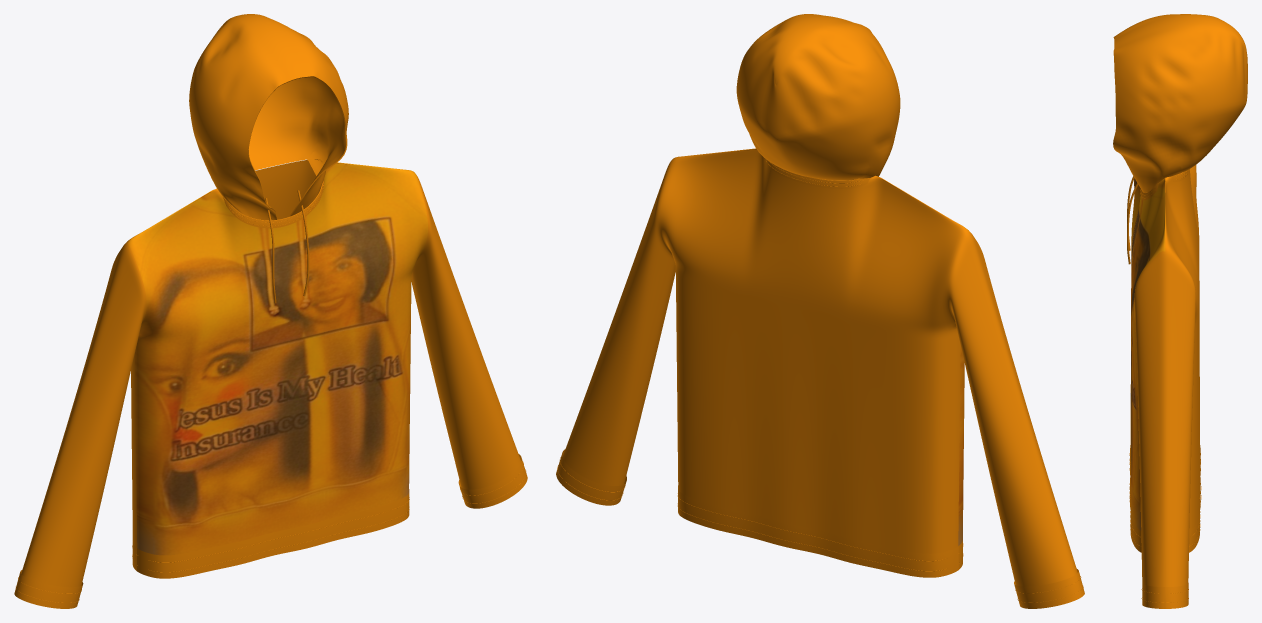
The model's file is jesus-health-insurance-hoodie-tailored-v6.glb.
The picture shows the model from 3 angles, left to right: view 1: azimuth 30°, elevation 25°; view 2: azimuth 150°, elevation 25°; view 3: azimuth 270°, elevation 25°; orthographic projection. The views are drawn at different scales.
Parts seen in each view (by area): view 1: front cotton, Sleeve cotton, Open hood panels, Bound collar and folded hems, Hood lining, Interior cotton, back cotton, Double-needle stitching; view 2: back cotton, Sleeve cotton, Open hood panels, Bound collar and folded hems, front cotton, Double-needle stitching; view 3: Open hood panels, Sleeve cotton, back cotton, front cotton, Bound collar and folded hems, Hood drawcords, Double-needle stitching.
Boxes of the visible parts, x1,y1,x2,y2 form: front cotton: [127, 162, 427, 555]; Sleeve cotton: [21, 175, 521, 587]; Open hood panels: [189, 14, 348, 220]; Bound collar and folded hems: [14, 159, 527, 608]; Hood lining: [248, 77, 346, 207]; Interior cotton: [188, 159, 352, 219]; back cotton: [126, 188, 216, 547]; Double-needle stitching: [15, 181, 526, 602]; back cotton: [658, 148, 968, 553]; Sleeve cotton: [562, 162, 1077, 586]; Open hood panels: [736, 14, 900, 180]; Bound collar and folded hems: [556, 159, 1084, 608]; front cotton: [958, 223, 969, 545]; Double-needle stitching: [557, 160, 1083, 602]; Open hood panels: [1113, 14, 1247, 192]; Sleeve cotton: [1134, 251, 1195, 586]; back cotton: [1165, 165, 1200, 530]; front cotton: [1130, 178, 1165, 530]; Bound collar and folded hems: [1130, 169, 1200, 608]; Hood drawcords: [1127, 176, 1138, 264]; Double-needle stitching: [1129, 169, 1201, 602].
Size of the model in its own units: 0.9144 by 0.8976 by 0.2232.
Materials: 10 (1 with a texture image).
